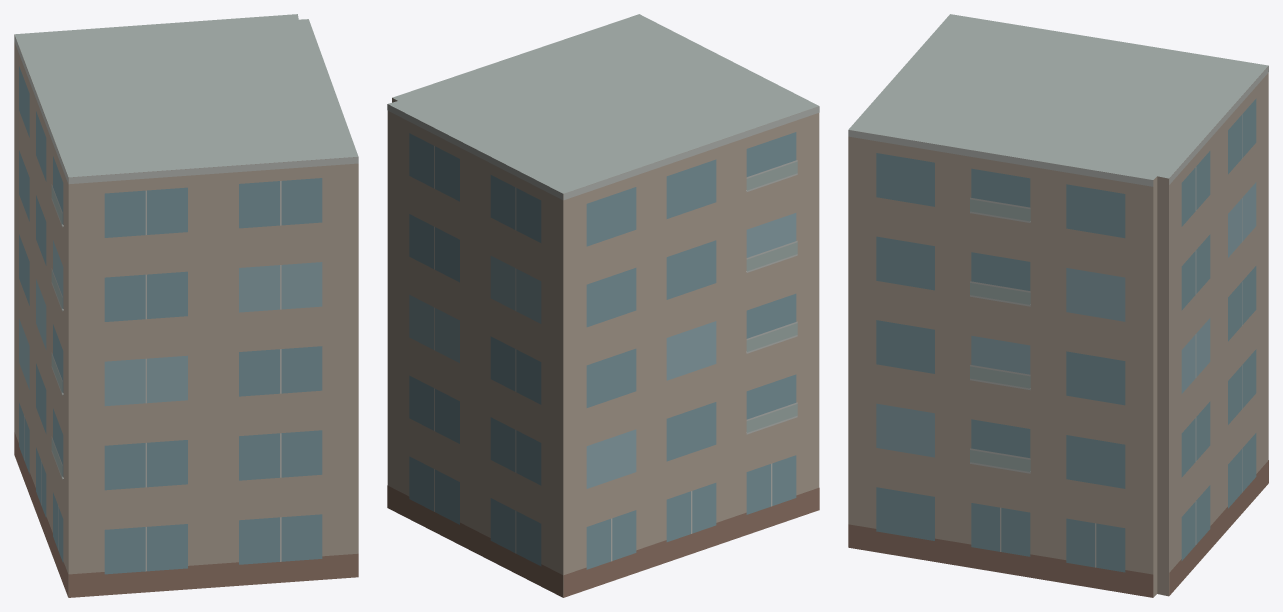
File: survey-upis-32878403.glb
The picture shows the model from 3 angles, left to right: view 1: azimuth 30°, elevation 25°; view 2: azimuth 150°, elevation 25°; view 3: azimuth 270°, elevation 25°; orthographic projection. The views are drawn at different scales.
Visible parts, largest first — view 1: survey-upis-32878403.tmp; view 2: survey-upis-32878403.tmp; view 3: survey-upis-32878403.tmp.
Boxes of the visible parts, bbox=[...] form: survey-upis-32878403.tmp: bbox=[14, 14, 358, 597]; survey-upis-32878403.tmp: bbox=[387, 14, 819, 597]; survey-upis-32878403.tmp: bbox=[848, 14, 1268, 597].
Bounding box in the file's own units: 12.88 × 15.1 × 13.79.
